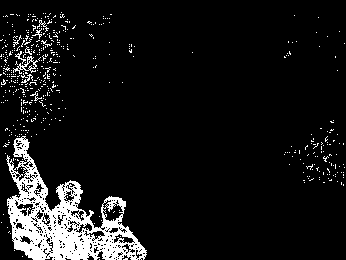person: (7, 180, 52, 260), (94, 191, 146, 260), (53, 181, 92, 260), (10, 139, 48, 197)
